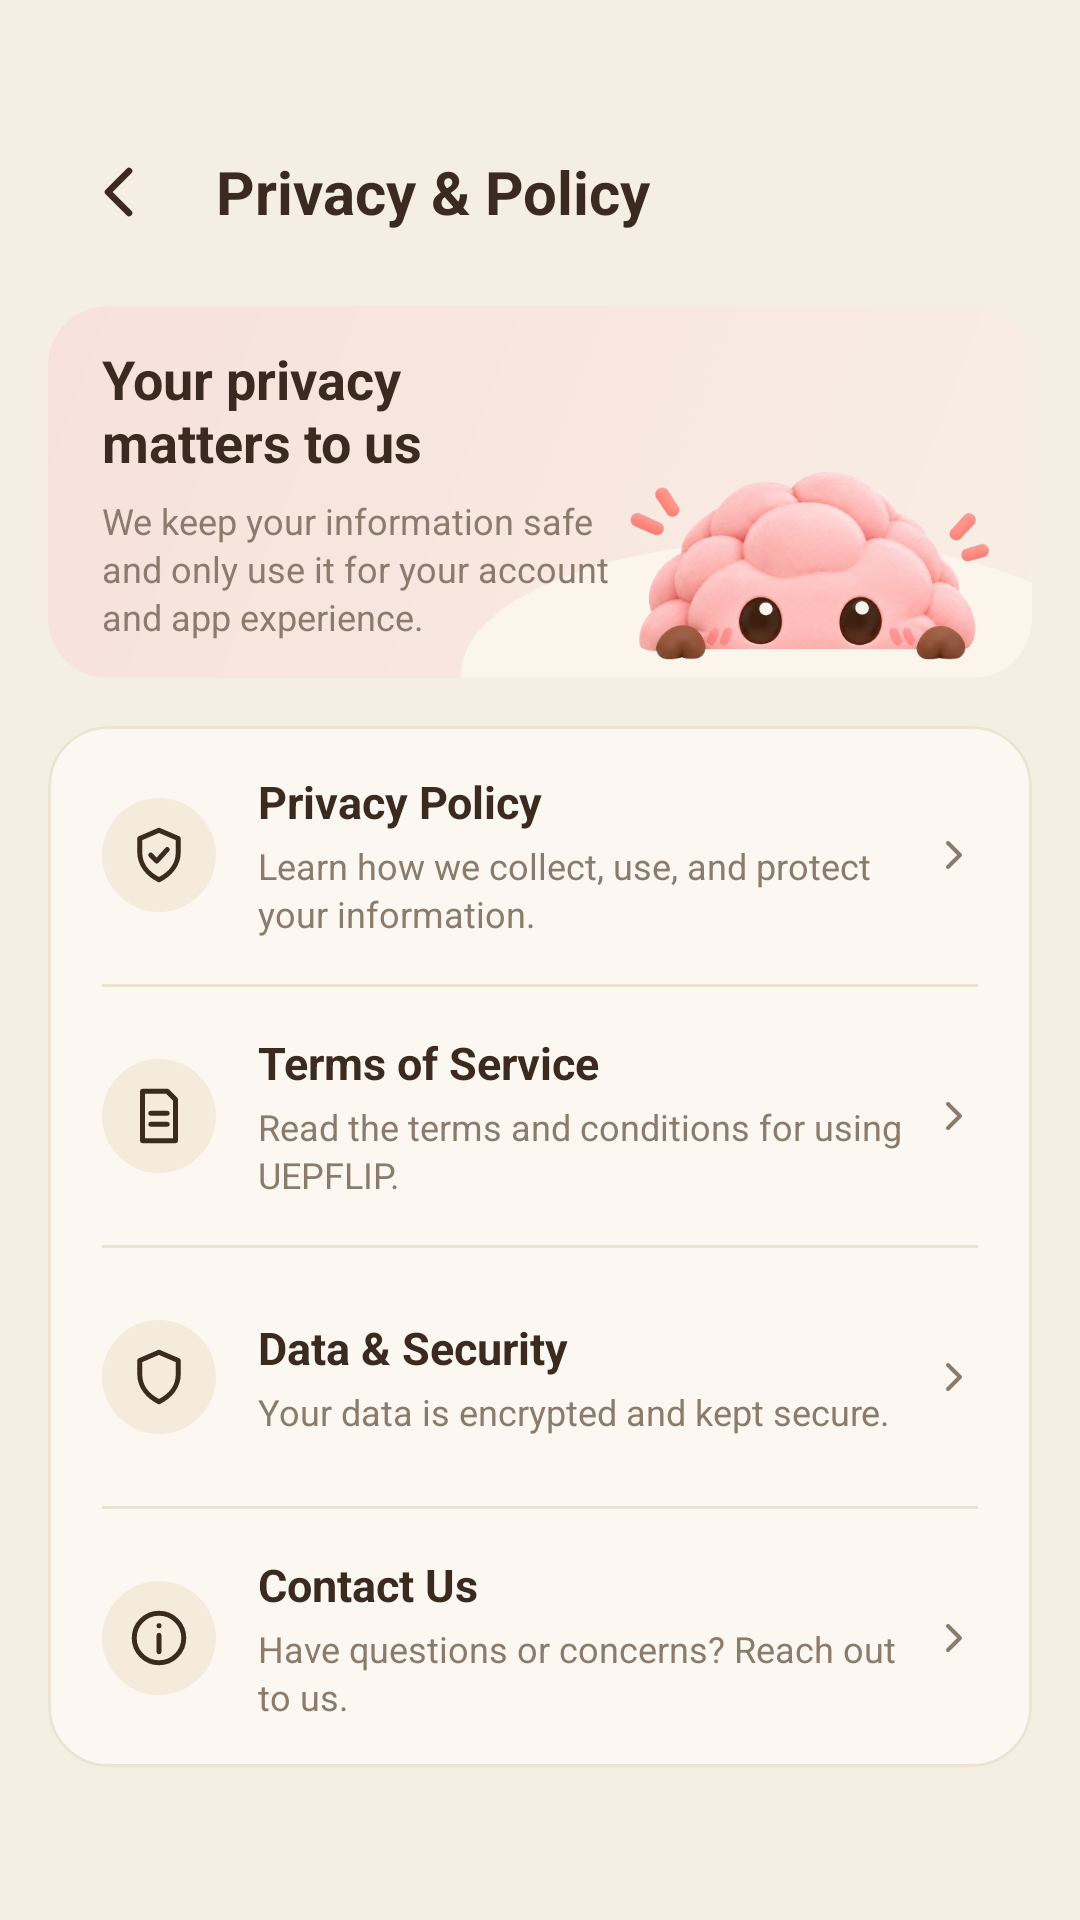

Icon click points for this 1080 x 1920 phone screenshot, format [x,y]:
Back: [118,192]
me chevron: [954,855], [954,1116], [954,1377], [954,1638]
me doc: [159,1116]
me info: [159,1638]
me shield: [159,1377]
me shield check: [159,855]
